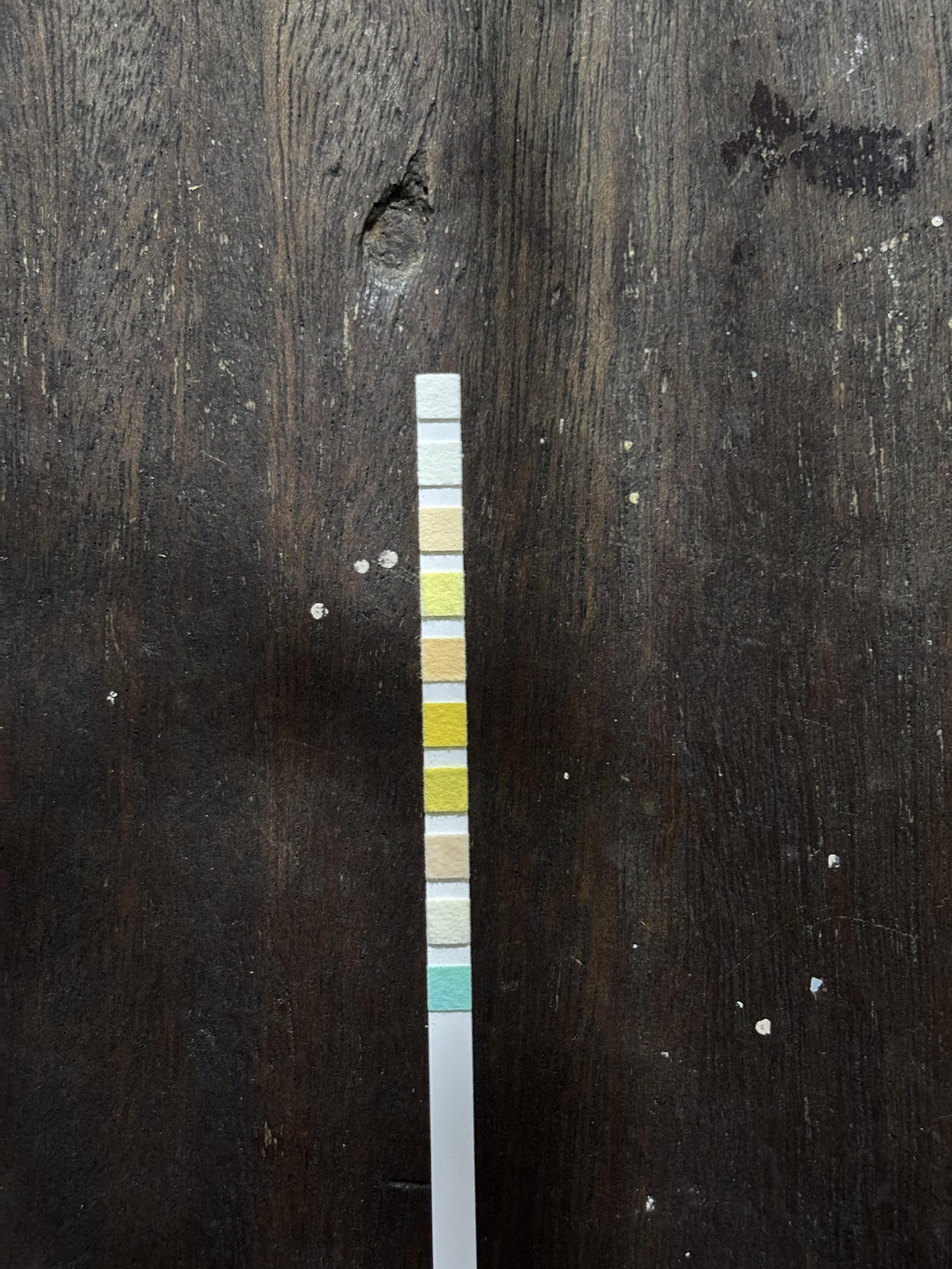Bilirubin: (428, 899, 469, 943)
Blood: (425, 704, 465, 746)
Glucose: (430, 969, 470, 1008)
Ketone: (427, 836, 469, 877)
Leukocytes: (417, 374, 461, 417)
Nitrite: (419, 442, 460, 485)
Protein: (423, 573, 463, 614)
SpGravity: (426, 769, 467, 810)
Urobilinogen: (420, 509, 462, 550)
pH: (423, 639, 464, 680)
strip: (417, 374, 477, 1233)
